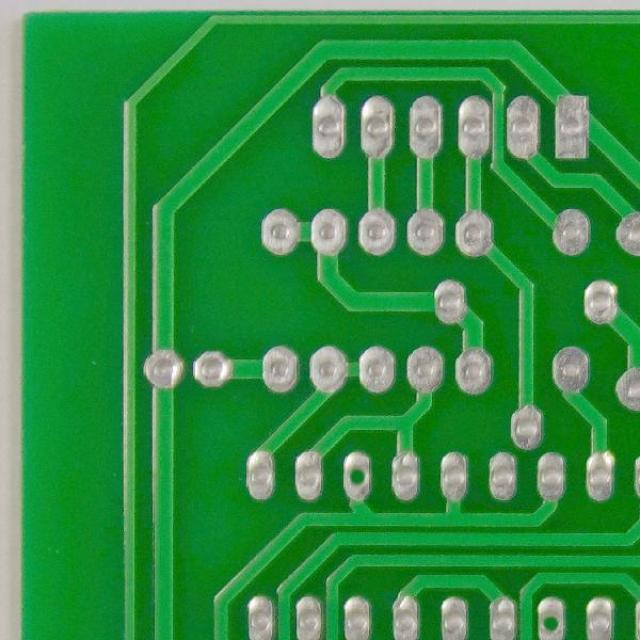Missing_Hole: (338, 448, 375, 501), (533, 594, 570, 639)
